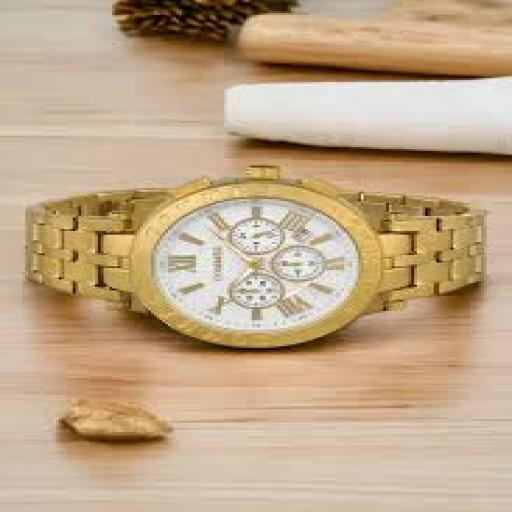KolSaati: (9, 160, 511, 358)
